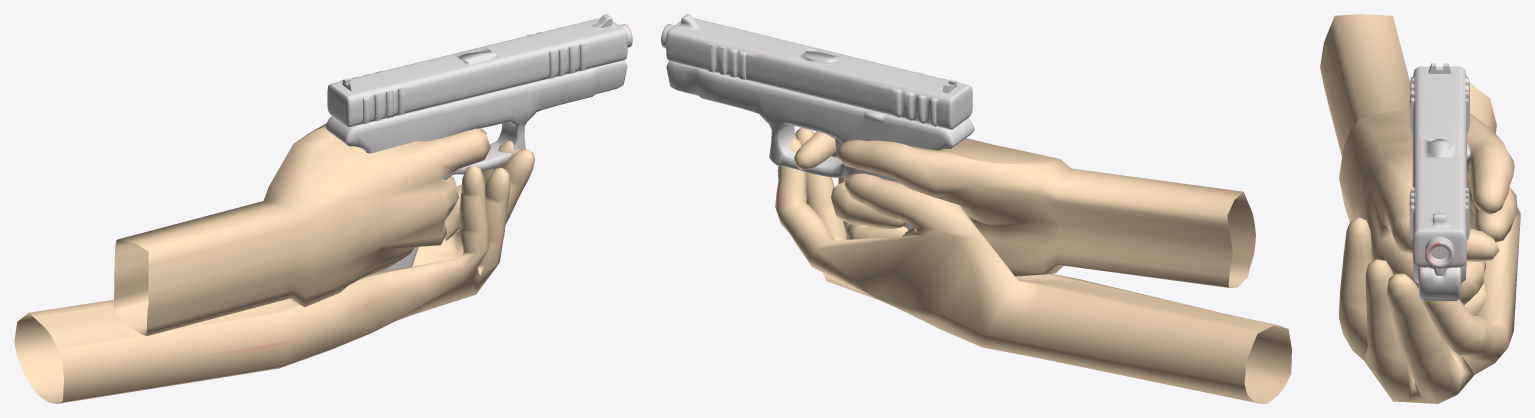
The model's file is fp_hands.glb.
3 renders of one model, left to right at view 1: azimuth 30°, elevation 25°; view 2: azimuth 150°, elevation 25°; view 3: azimuth 270°, elevation 25°, orthographic. The views are drawn at different scales.
Parts seen in each view (by area): view 1: Hands; view 2: Hands; view 3: Hands.
Part boxes in pixels (x1,y1,x2,y2): Hands: (14,14,632,403); Hands: (661,14,1291,403); Hands: (1320,14,1520,403).
Size of the model in its own units: 7.71 by 3.17 by 1.88.
Materials: 1 (1 with a texture image).
